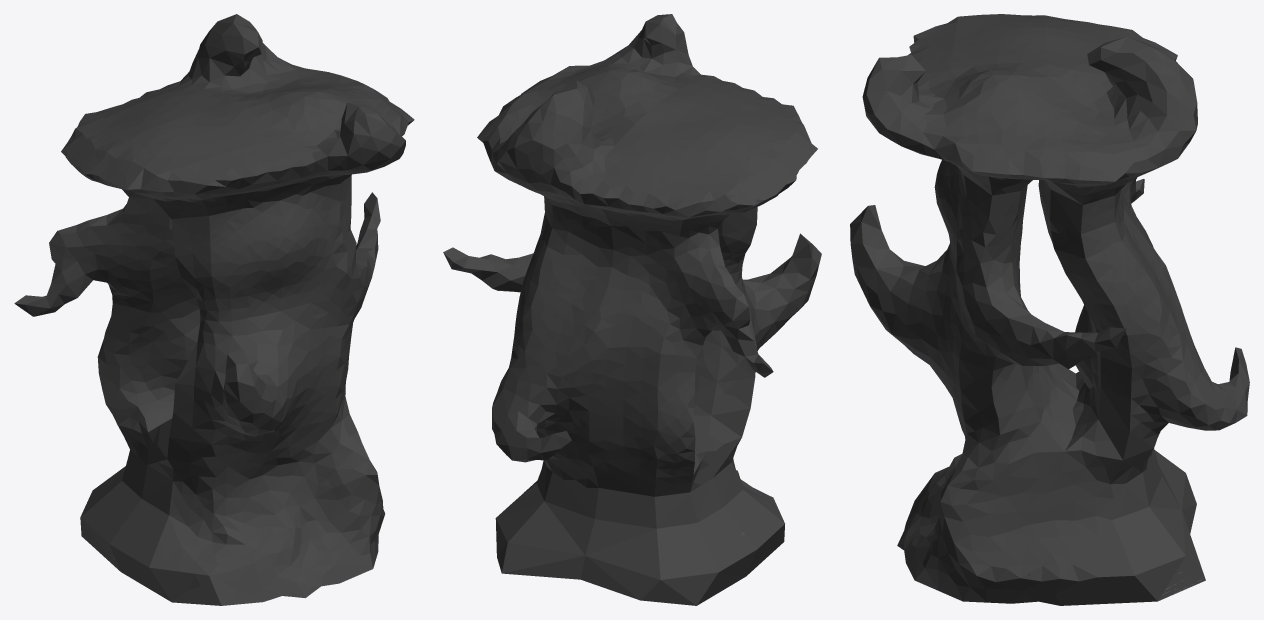
File: Kolonna3.fbx
3 renders of one model, left to right at view 1: azimuth 30°, elevation 25°; view 2: azimuth 150°, elevation 25°; view 3: azimuth 270°, elevation 25°, orthographic. The views are drawn at different scales.
Parts seen in each view (by area): view 1: Cube.002_cell.012, Cube.002_cell.001, Cube.002_cell.029, Cube.002_cell.025, Cube.002_cell.018, Cube.002_cell.014, Cube.002_cell.008, Cube.002_cell.020, Cube.002_cell.021, Cube.002_cell.015, Cube.002_cell.013, Cube.002_cell.030 (+10 smaller); view 2: Cube.002_cell.017, Cube.002_cell.020, Cube.002_cell.018, Cube.002_cell.012, Cube.002_cell, Cube.002_cell.002, Cube.002_cell.025, Cube.002_cell.019, Cube.002_cell.014, Cube.002_cell.021, Cube.002_cell.030, Cube.002_cell.007 (+12 smaller); view 3: Cube.002_cell.017, Cube.002_cell.001, Cube.002_cell.015, Cube.002_cell.020, Cube.002_cell.022, Cube.002_cell.013, Cube.002_cell.029, Cube.002_cell.031, Cube.002_cell, Cube.002_cell.021, Cube.002_cell.025, Cube.002_cell.005 (+11 smaller).
Boxes of the visible parts, x1,y1,x2,y2 form: Cube.002_cell.012: (80,380,308,605); Cube.002_cell.001: (277,368,385,595); Cube.002_cell.029: (213,217,340,395); Cube.002_cell.025: (215,89,321,232); Cube.002_cell.018: (97,296,200,464); Cube.002_cell.014: (83,208,182,300); Cube.002_cell.008: (135,146,240,260); Cube.002_cell.020: (140,32,336,98); Cube.002_cell.021: (303,101,405,176); Cube.002_cell.015: (285,74,414,246); Cube.002_cell.013: (268,324,352,429); Cube.002_cell.030: (173,242,236,386); Cube.002_cell.017: (492,400,699,605); Cube.002_cell.020: (477,89,673,299); Cube.002_cell.018: (591,309,733,521); Cube.002_cell.012: (688,263,819,604); Cube.002_cell: (492,288,622,434); Cube.002_cell.002: (632,138,759,256); Cube.002_cell.025: (598,68,762,118); Cube.002_cell.019: (622,105,757,156); Cube.002_cell.014: (651,246,732,348); Cube.002_cell.021: (608,14,714,77); Cube.002_cell.030: (718,209,821,353); Cube.002_cell.007: (625,178,738,219); Cube.002_cell.017: (1023,387,1247,605); Cube.002_cell.001: (898,376,1031,603); Cube.002_cell.015: (902,81,1102,253); Cube.002_cell.020: (1060,53,1197,246); Cube.002_cell.022: (1045,176,1143,356); Cube.002_cell.013: (868,277,1008,401); Cube.002_cell.029: (850,160,1046,295); Cube.002_cell.031: (989,216,1126,369); Cube.002_cell: (1126,236,1226,405); Cube.002_cell.021: (862,54,981,146); Cube.002_cell.025: (908,41,1064,169); Cube.002_cell.005: (944,241,1010,364).
Bounding box in the file's own units: 80.12 × 108 × 73.56.
